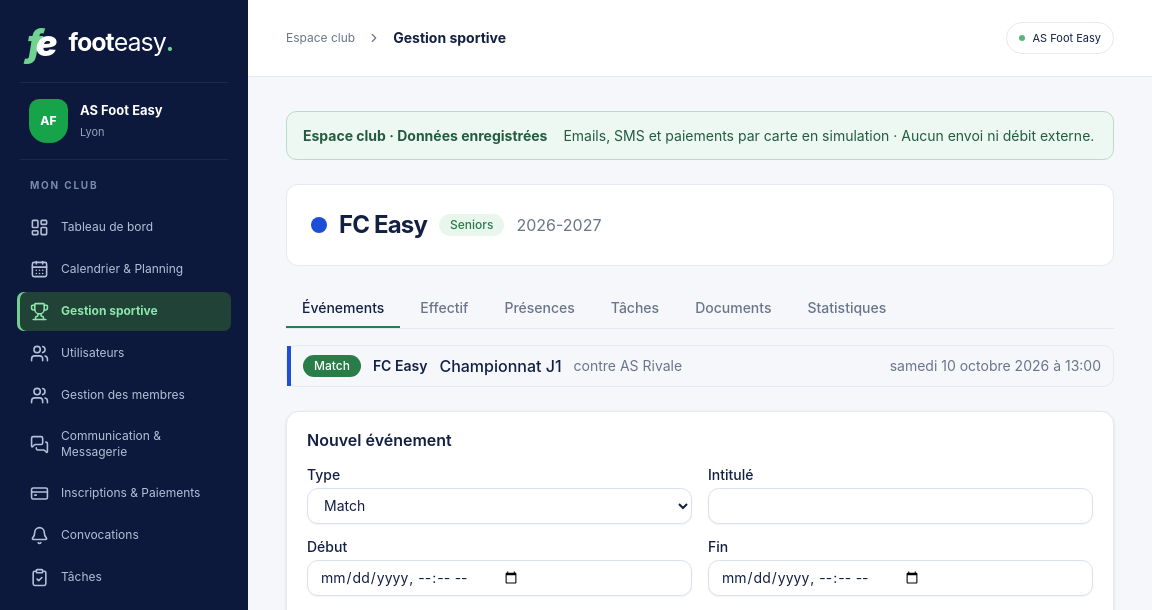
Test: TeamPage › shows the roster in its tab
Click the tab "Effectif": (444, 309) [404, 290, 484, 328]
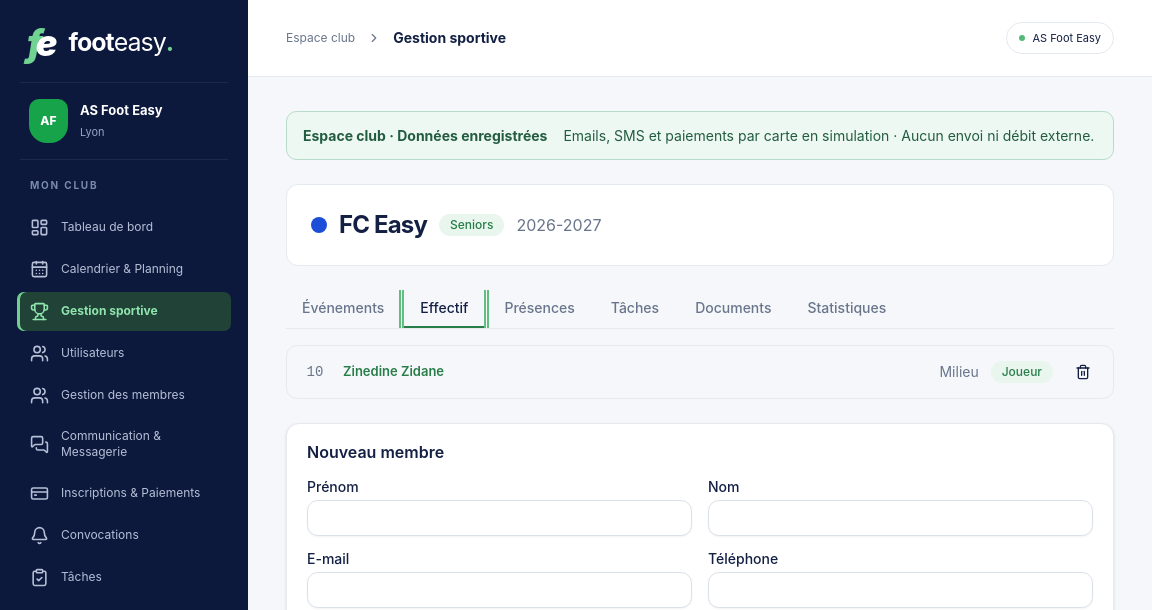
Expected: the text "Milieu" is shown, [940, 362, 979, 382]
